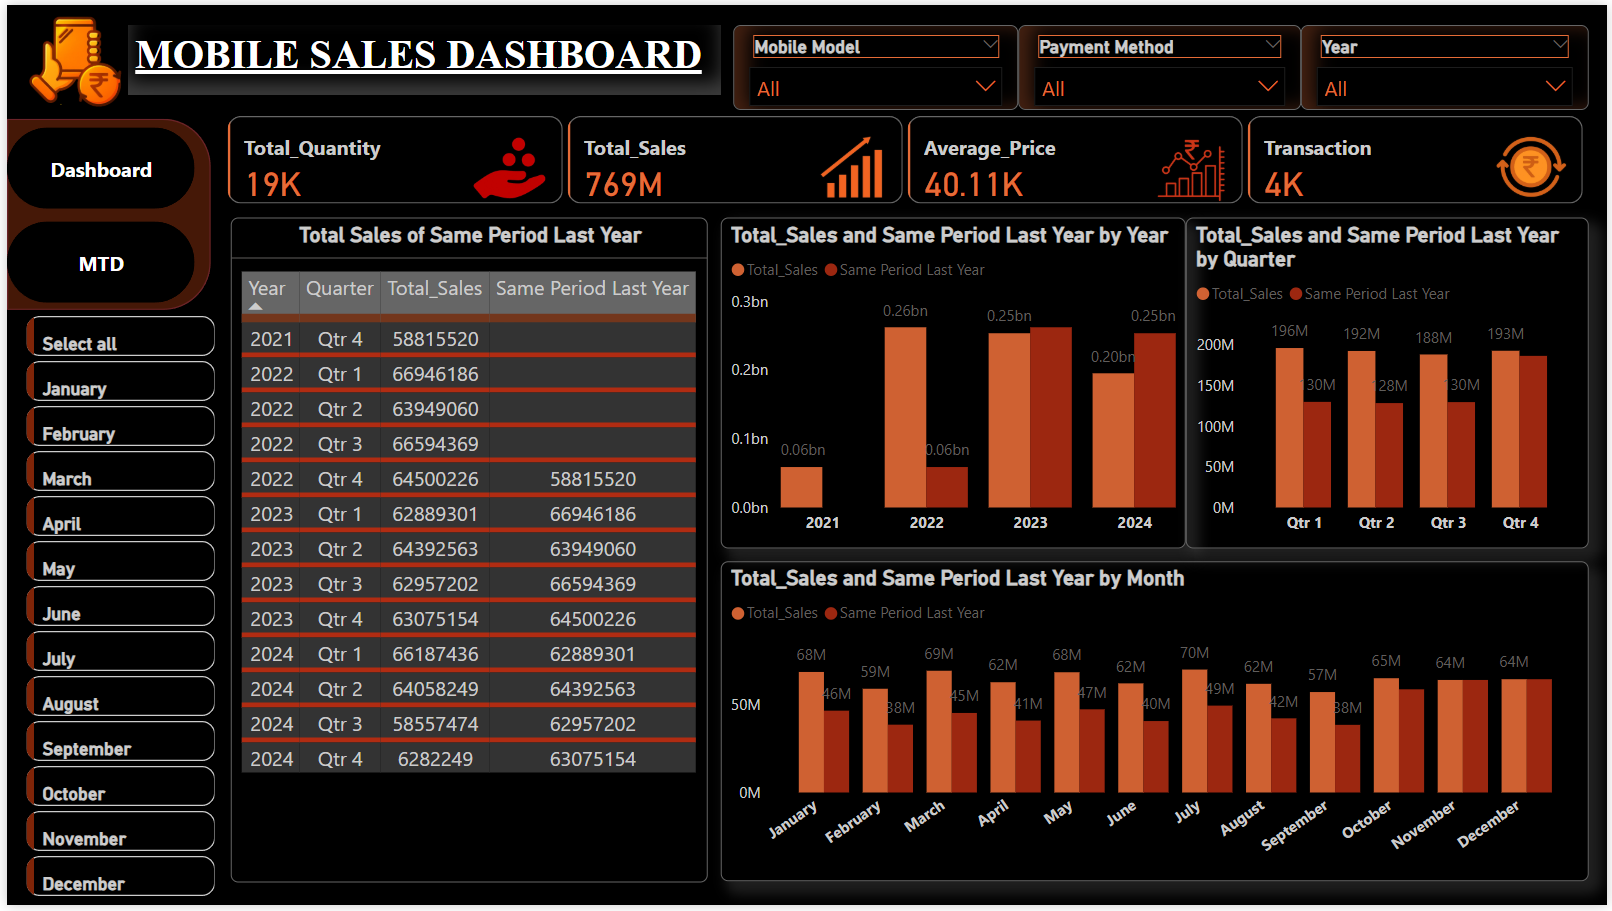

What the dashboard file says about the page in this screenshot:
{"tool":"powerbi","page":{"name":"Same period last year","canvas":[1280,720],"ordinal":2},"visuals":[{"type":"cardVisual","fields":{"Data":["Sales_data.Total_Quantity","Sales_data.Total_Sales","Sales_data.Average_Price","Sales_data.Transaction"]},"box":[171.2,83.8,1093.8,80],"z":0},{"type":"slicer","fields":{"Values":["Sales_data.Mobile Model"]},"box":[581.2,16.2,227.5,67.5],"z":1000},{"type":"slicer","fields":{"Values":["Sales_data.Payment Method"]},"box":[808.8,16.2,226.2,67.5],"z":2000},{"type":"slicer","fields":{"Values":["Custom_calender.Date.Variation.Date Hierarchy.Year"]},"box":[1035,16.2,230,67.5],"z":3000},{"type":"textbox","box":[96.5,16.3,474.4,55.8],"z":5000},{"type":"image","box":[0,0,109.3,103.5],"z":6000},{"type":"advancedSlicerVisual","fields":{"Values":["Custom_calender.Date.Variation.Date Hierarchy.Month"]},"box":[10,243.8,161.2,476.2],"z":7000},{"type":"tableEx","title":"Total Sales of Same Period Last Year","fields":{"Values":["Custom_calender.Date.Variation.Date Hierarchy.Year","Custom_calender.Date.Variation.Date Hierarchy.Quarter","Sales_data.Total_Sales","Sales_data.Same Period Last Year"]},"box":[179.1,169.8,381.4,532],"z":8000},{"type":"clusteredColumnChart","fields":{"Category":["Custom_calender.Date.Variation.Date Hierarchy.Year","Custom_calender.Date.Variation.Date Hierarchy.Quarter"],"Y":["Sales_data.Total_Sales","Sales_data.Same Period Last Year"]},"box":[571.2,170,371.2,265],"z":9000},{"type":"clusteredColumnChart","fields":{"Category":["Custom_calender.Date.Variation.Date Hierarchy.Month","Custom_calender.Date.Variation.Date Hierarchy.Day"],"Y":["Sales_data.Total_Sales","Sales_data.Same Period Last Year"]},"box":[571.2,445,693.8,256.2],"z":10000},{"type":"clusteredColumnChart","fields":{"Category":["Custom_calender.Date.Variation.Date Hierarchy.Quarter"],"Y":["Sales_data.Total_Sales","Sales_data.Same Period Last Year"]},"box":[942.5,170,322.5,265],"z":11000},{"type":"shape","box":[0,91.2,162.5,152.5],"z":12000},{"type":"pageNavigator","box":[0,97.5,150,140],"z":15000}]}

Visuals, with their boxes in screenshot pixels (x1, y1, x2, y2), scaled from the page's 1280x720 canvas onto the 1612x911 screenshot:
cardVisual - Sales_data.Total_Quantity x Sales_data.Total_Sales: 216:106:1593:207
slicer - Sales_data.Mobile Model: 732:20:1018:106
slicer - Sales_data.Payment Method: 1019:20:1303:106
slicer - Custom_calender.Date.Variation.Date Hierarchy.Year: 1303:20:1593:106
textbox: 122:21:719:91
image: 0:0:138:131
advancedSlicerVisual - Custom_calender.Date.Variation.Date Hierarchy.Month: 13:308:216:910
"Total Sales of Same Period Last Year" tableEx: 226:215:706:888
clusteredColumnChart - Custom_calender.Date.Variation.Date Hierarchy.Year x Custom_calender.Date.Variation.Date Hierarchy.Quarter: 719:215:1187:550
clusteredColumnChart - Custom_calender.Date.Variation.Date Hierarchy.Month x Custom_calender.Date.Variation.Date Hierarchy.Day: 719:563:1593:887
clusteredColumnChart - Custom_calender.Date.Variation.Date Hierarchy.Quarter x Sales_data.Total_Sales: 1187:215:1593:550
shape: 0:115:205:308
pageNavigator: 0:123:189:301
